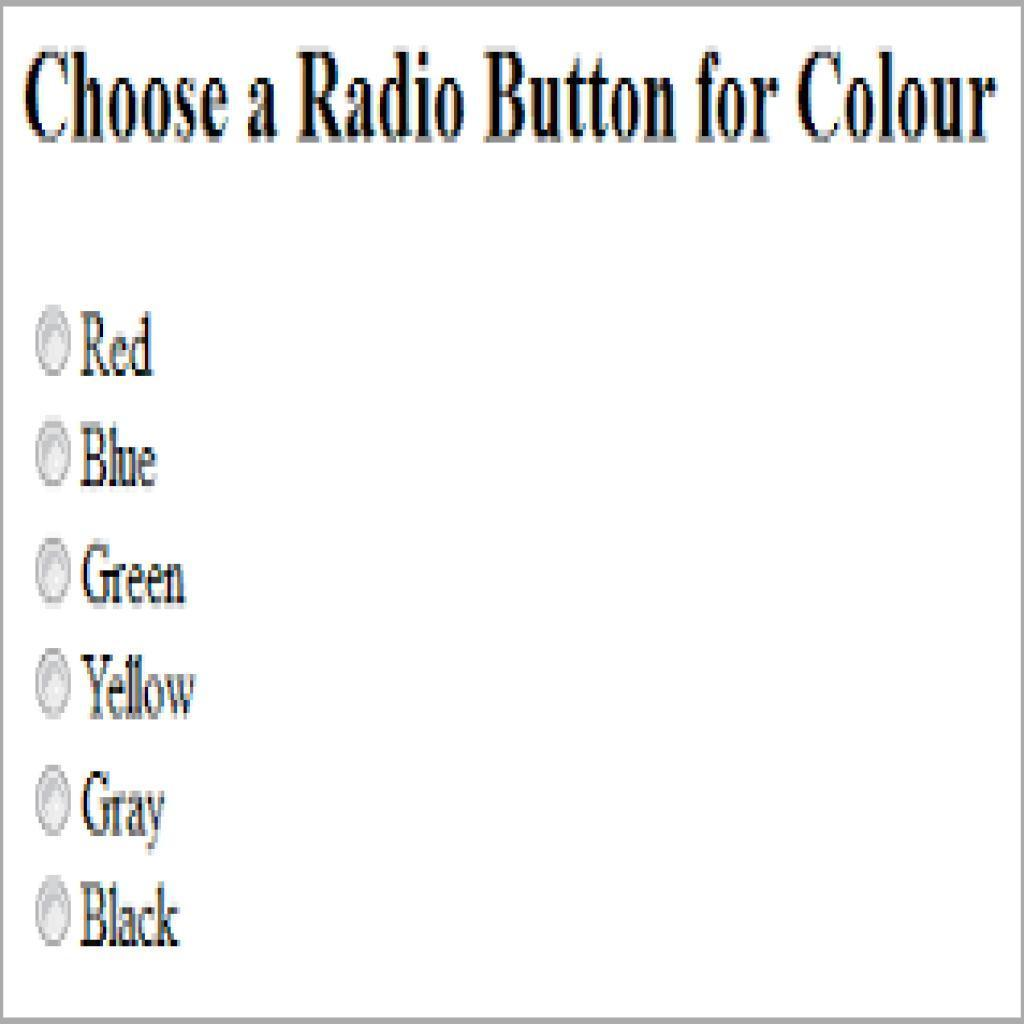label: (77, 650, 197, 721), (80, 880, 184, 952), (80, 770, 166, 856), (82, 540, 188, 606), (77, 307, 158, 380), (80, 418, 161, 487)
radio: (34, 764, 75, 840), (35, 304, 74, 379), (35, 872, 72, 948), (35, 648, 74, 720), (34, 537, 74, 607), (34, 420, 73, 488)
